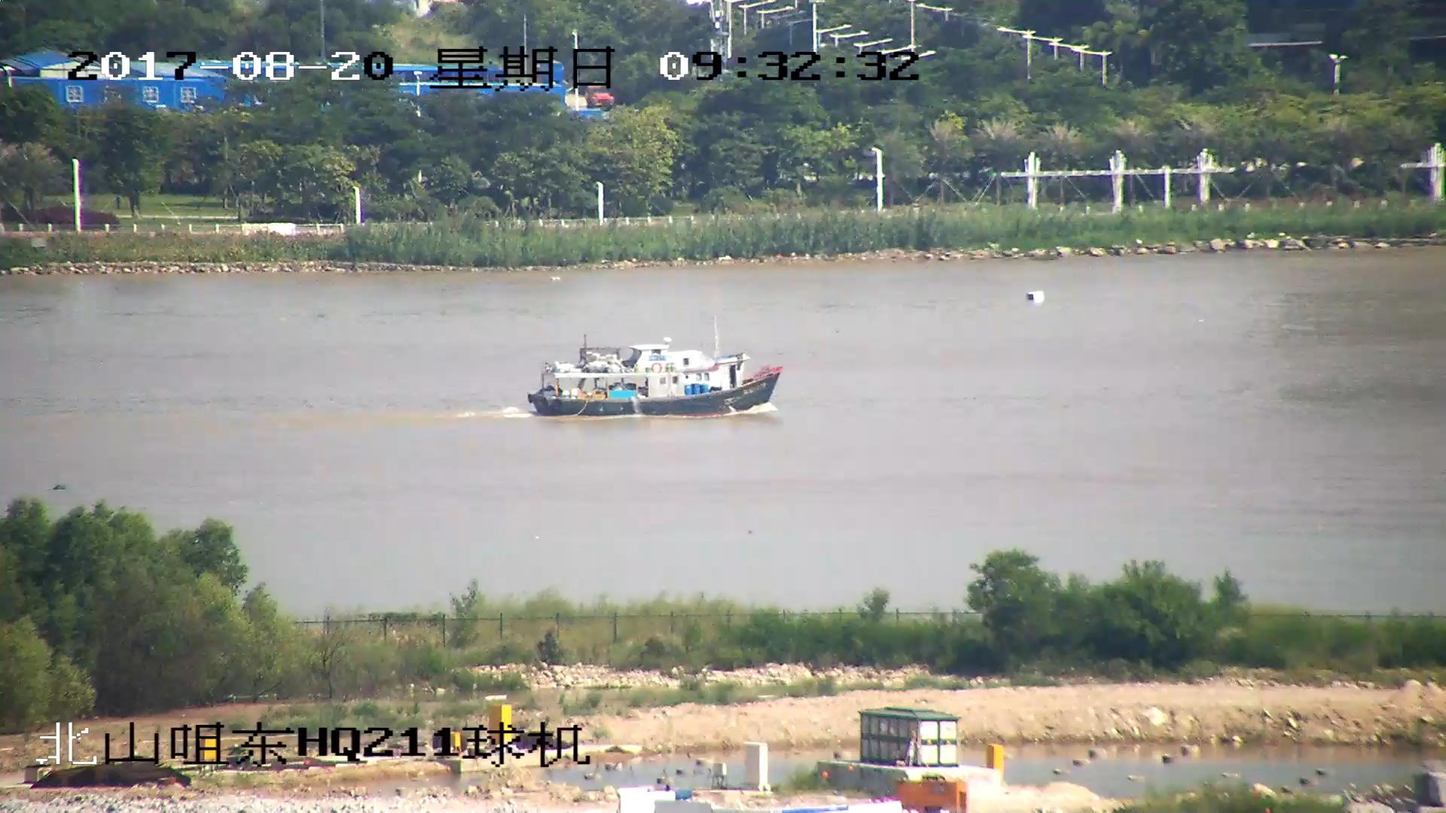fishing boat: (525, 333, 781, 418)
